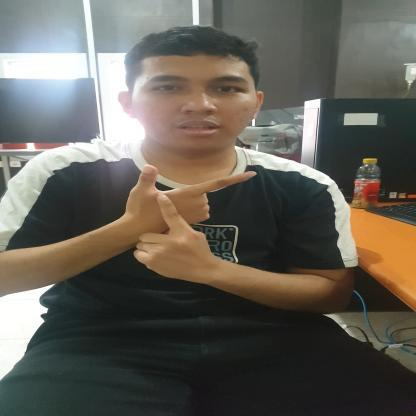Y: (128, 164, 260, 260)
